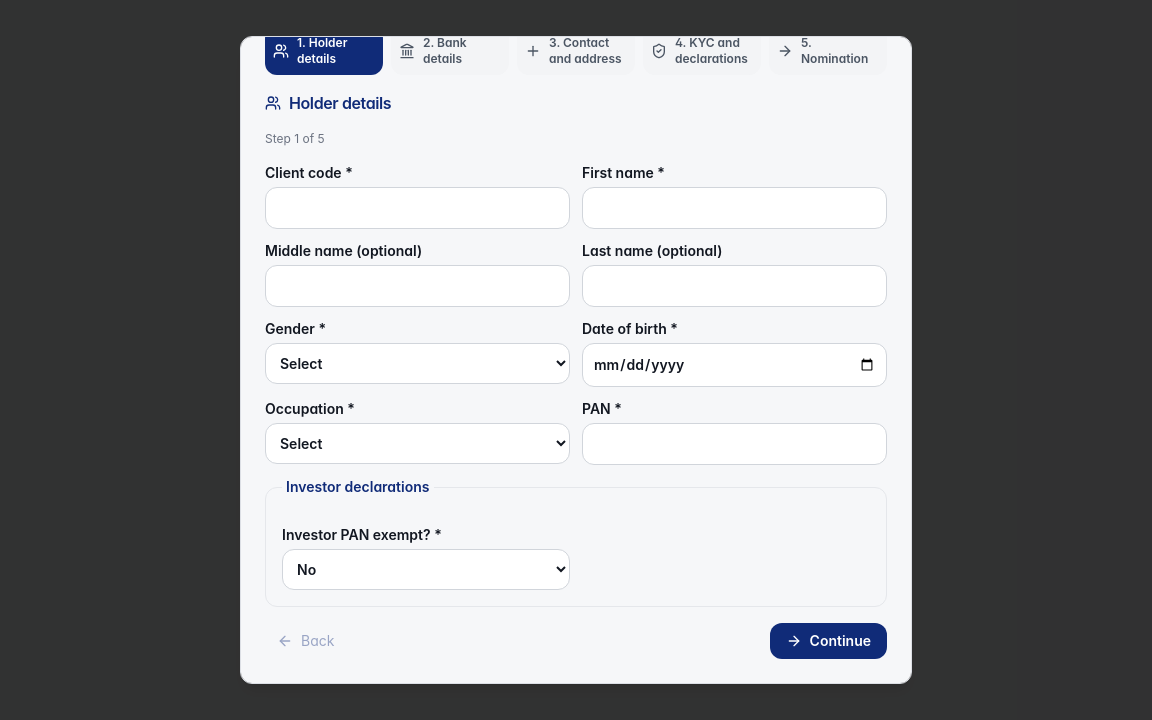
Test: blocks empty details and cannot bypass validation by jumping to nomination
The width and height of the screenshot is (1152, 720).
(page scrolled)
Click the button "Continue". click: (828, 641)
box: left=770, top=623, right=887, bottom=659
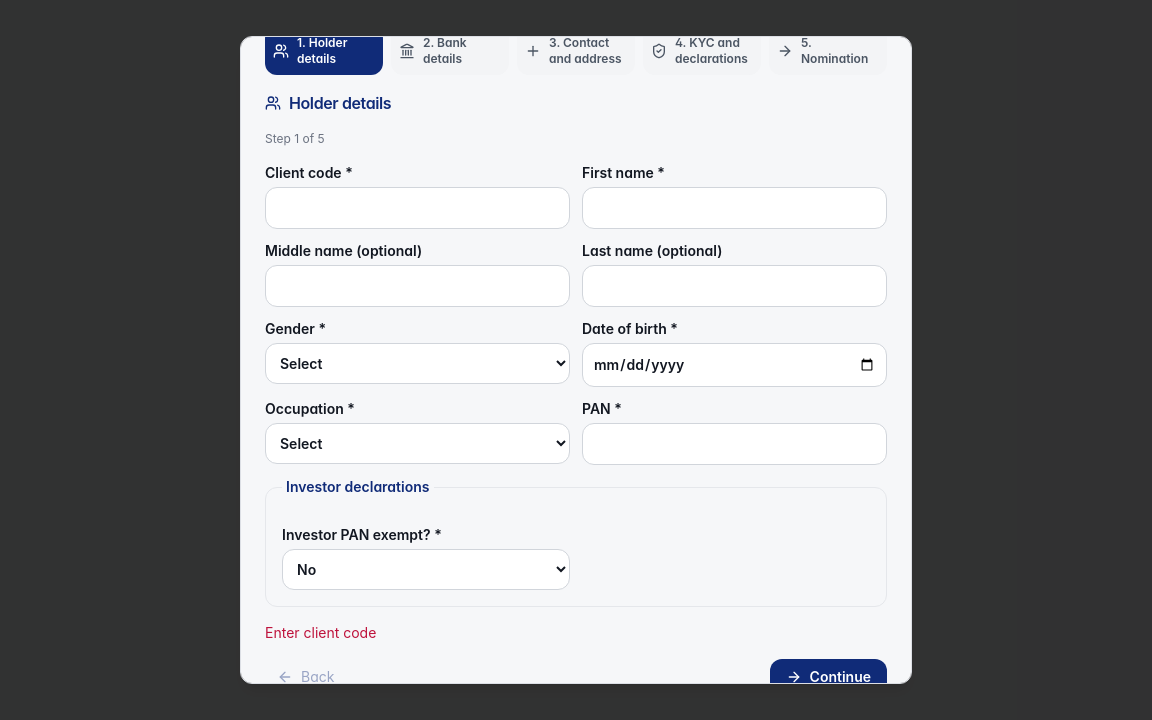
Check: the message shows "client code", box left=265, top=624, right=376, bottom=641
Click the button "5. Nomination". click: (828, 51)
box: left=769, top=27, right=887, bottom=75
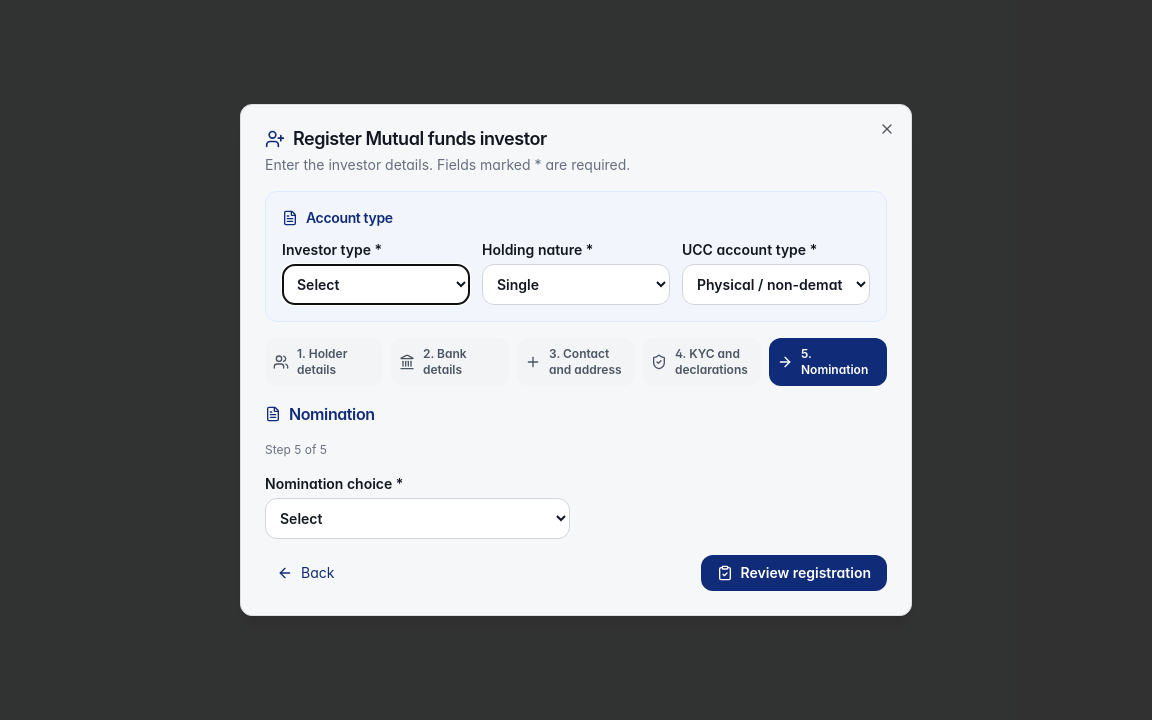
Click the button "Review registration". click: (794, 573)
box: left=700, top=555, right=887, bottom=591
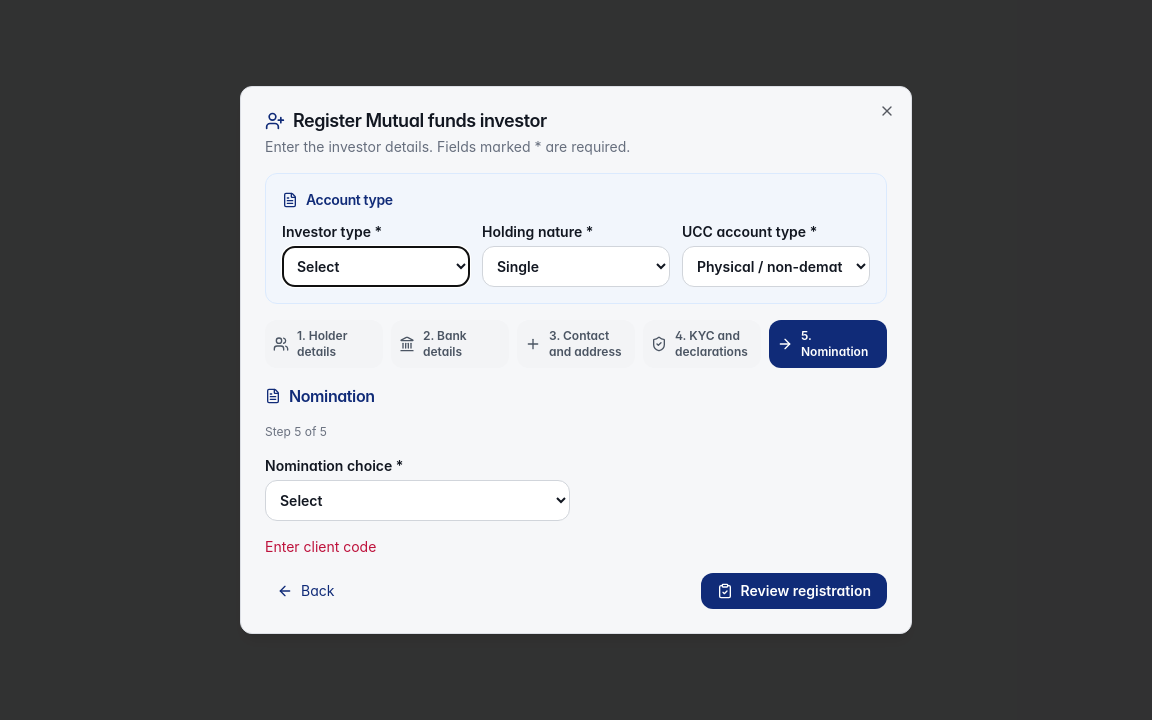
Check: the message shows "client code", box left=265, top=538, right=376, bottom=555
